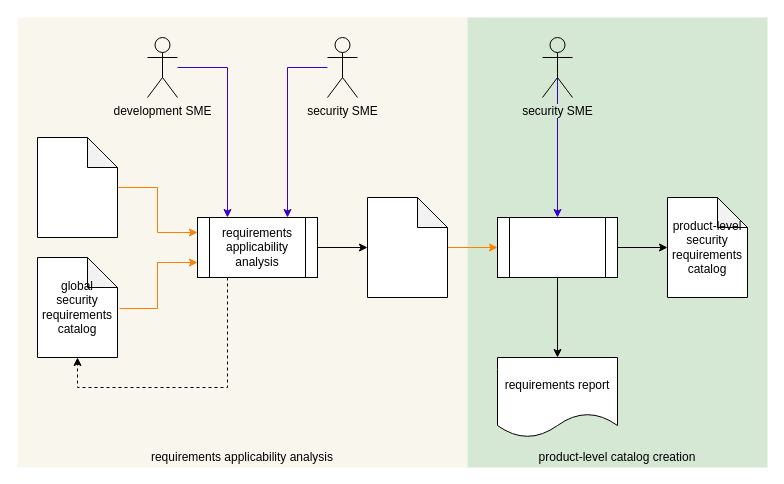
Some shapes in this 784 by 484 pixel diagram are drawn without their labels. Here are the shapes that lost their labels. From the top down, the box of each, then its label:
(36, 136, 118, 238): element functional requirements
(366, 196, 448, 298): list of applicable requirements
(496, 216, 618, 278): product-level security catalog creation
